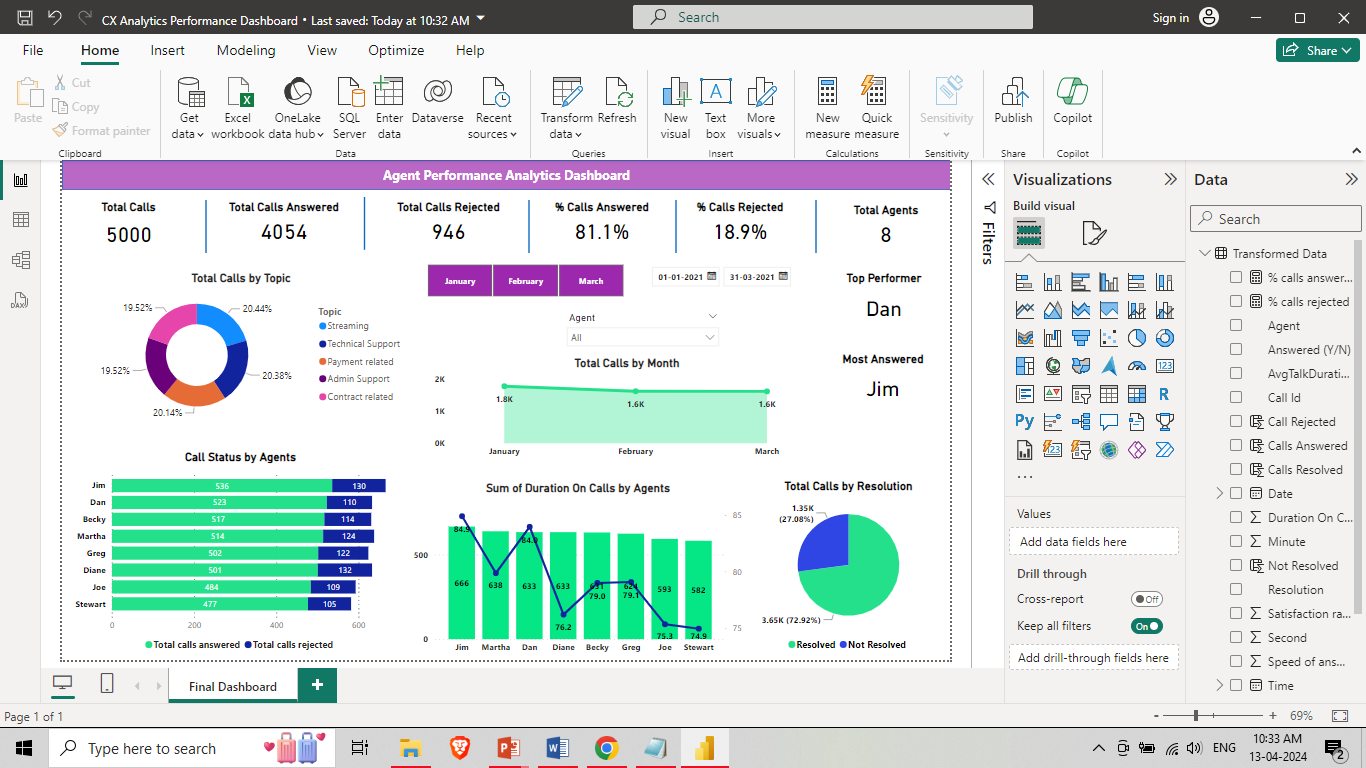

What the dashboard file says about the page in this screenshot:
{"tool":"powerbi","page":{"name":"Final Dashboard","canvas":[1280,720],"ordinal":0},"visuals":[{"type":"card","title":"Total Calls","fields":{"Values":["Transformed Data.Total Calls"]},"box":[14.4,57.6,162.7,76.3],"z":0},{"type":"card","title":"Total Agents","fields":{"Values":["Count(Transformed Data.Agent)"]},"box":[1118.9,61.9,135.4,69.1],"z":1000},{"type":"shape","box":[195.8,57.6,23,76.3],"z":2000},{"type":"shape","box":[429.1,53.3,13,76.3],"z":3000},{"type":"shape","box":[662.4,57.6,20.2,76.3],"z":4000},{"type":"card","title":"Total Calls Answered","fields":{"Values":["Transformed Data.Total calls answered"]},"box":[229,57.6,181.4,69.1],"z":5000},{"type":"card","title":"Total Calls Rejected","fields":{"Values":["Transformed Data.Total calls rejected"]},"box":[462.2,57.6,188.6,69.1],"z":6000},{"type":"card","title":"% Calls Answered","fields":{"Values":["Transformed Data.% calls answered"]},"box":[694.1,57.6,167,69.1],"z":7000},{"type":"card","title":"% Calls Rejected","fields":{"Values":["Transformed Data.% calls rejected"]},"box":[894.2,57.6,164.2,69.1],"z":8000},{"type":"shape","box":[874.1,57.6,20.2,76.3],"z":9000},{"type":"pieChart","fields":{"Category":["Transformed Data.Resolution"],"Y":["Transformed Data.Total Calls"]},"box":[985,459.4,295.2,257.8],"z":10000},{"type":"barChart","title":"Call Status by Agents","fields":{"Category":["Transformed Data.Agent"],"Y":["Transformed Data.Total calls answered","Transformed Data.Total calls rejected"]},"box":[13,417.6,488.2,299.5],"z":11000},{"type":"areaChart","fields":{"Category":["Transformed Data.Date.Variation.Date Hierarchy.Month","Transformed Data.Date.Variation.Date Hierarchy.Day"],"Y":["Transformed Data.Total Calls"]},"box":[531.4,282.2,564.5,155.5],"z":12000},{"type":"card","title":"Most Answered","fields":{"Values":["Min(Transformed Data.Agent)"]},"box":[1110.2,276.5,144,83.5],"z":13000},{"type":"card","title":"Top Performer","fields":{"Values":["Min(Transformed Data.Agent)"]},"box":[1113.1,159.8,141.1,86.4],"z":14000},{"type":"shape","box":[1075.7,57.6,20.2,76.3],"z":15000},{"type":"donutChart","fields":{"Category":["Transformed Data.Topic"],"Y":["Transformed Data.Total Calls"]},"box":[14.4,159.8,486.7,223.2],"z":16000},{"type":"lineStackedColumnComboChart","title":"Sum of Duration On Calls by Agents","fields":{"Category":["Transformed Data.Agent"],"Y2":["Sum(Transformed Data.Duration On Calls)"],"Y":["Transformed Data.Total Calls"]},"box":[501.1,462.2,483.8,257.8],"z":17000},{"type":"slicer","fields":{"Values":["Transformed Data.Date.Variation.Date Hierarchy.Month"]},"box":[501.1,144,331.2,59],"z":18000},{"type":"slicer","fields":{"Values":["Transformed Data.Date"]},"box":[836.6,144,221.8,59],"z":19000},{"type":"shape","box":[0,0,1280.2,43.2],"z":20000},{"type":"slicer","fields":{"Values":["Transformed Data.Agent"]},"box":[717.1,213.1,239,63.4],"z":21000}]}

Visuals, with their boxes on the page's 1280x720 design canvas (x1, y1, x2, y2). These are canvas units, not pixel positions in the 1366x768 screenshot, which may show the page scaled, cropped or inside an application window:
"Total Calls" card: BBox(14, 58, 177, 134)
"Total Agents" card: BBox(1119, 62, 1254, 131)
shape: BBox(196, 58, 219, 134)
shape: BBox(429, 53, 442, 130)
shape: BBox(662, 58, 683, 134)
"Total Calls Answered" card: BBox(229, 58, 410, 127)
"Total Calls Rejected" card: BBox(462, 58, 651, 127)
"% Calls Answered" card: BBox(694, 58, 861, 127)
"% Calls Rejected" card: BBox(894, 58, 1058, 127)
shape: BBox(874, 58, 894, 134)
pieChart - Transformed Data.Resolution x Transformed Data.Total Calls: BBox(985, 459, 1280, 717)
"Call Status by Agents" barChart: BBox(13, 418, 501, 717)
areaChart - Transformed Data.Date.Variation.Date Hierarchy.Month x Transformed Data.Date.Variation.Date Hierarchy.Day: BBox(531, 282, 1096, 438)
"Most Answered" card: BBox(1110, 276, 1254, 360)
"Top Performer" card: BBox(1113, 160, 1254, 246)
shape: BBox(1076, 58, 1096, 134)
donutChart - Transformed Data.Topic x Transformed Data.Total Calls: BBox(14, 160, 501, 383)
"Sum of Duration On Calls by Agents" lineStackedColumnComboChart: BBox(501, 462, 985, 720)
slicer - Transformed Data.Date.Variation.Date Hierarchy.Month: BBox(501, 144, 832, 203)
slicer - Transformed Data.Date: BBox(837, 144, 1058, 203)
shape: BBox(0, 0, 1280, 43)
slicer - Transformed Data.Agent: BBox(717, 213, 956, 276)
